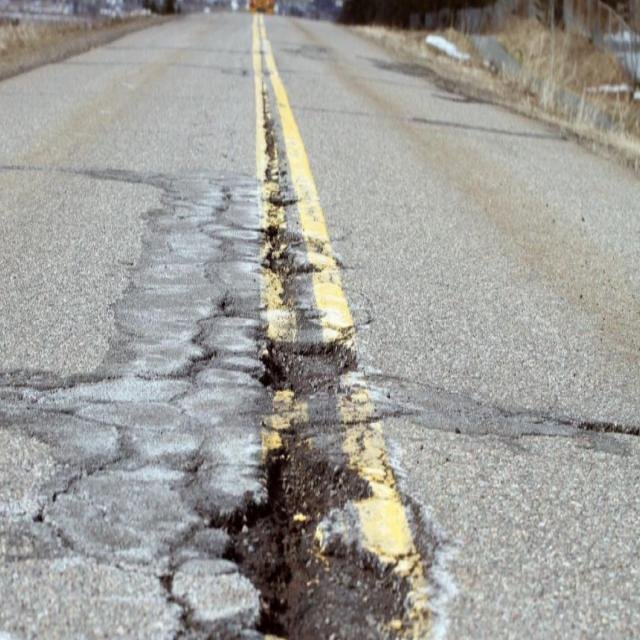Pothole: (250, 468, 376, 635), (266, 334, 346, 386)
Surface Erosion: (54, 162, 247, 634), (248, 32, 314, 336)
